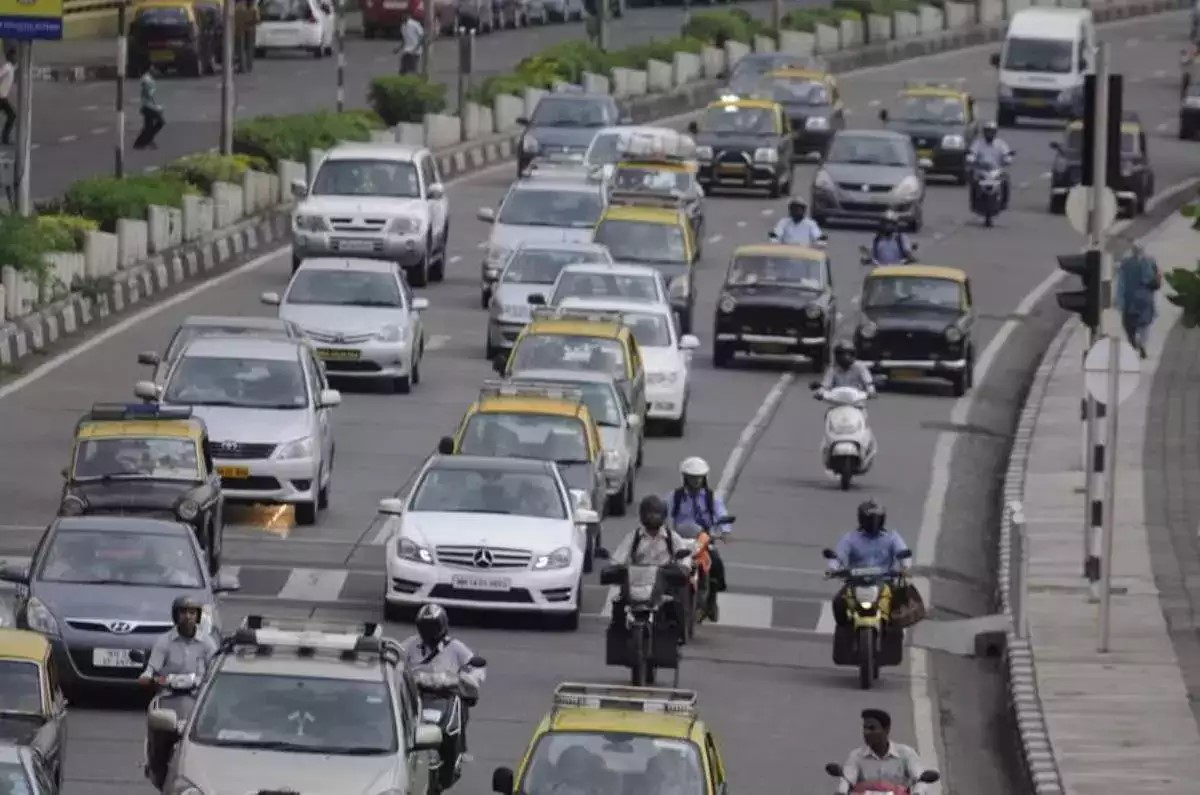LightVehicle: (381, 450, 591, 624), (713, 245, 830, 368)
MotorCycle: (822, 564, 913, 692), (605, 560, 673, 684), (815, 382, 878, 491)
